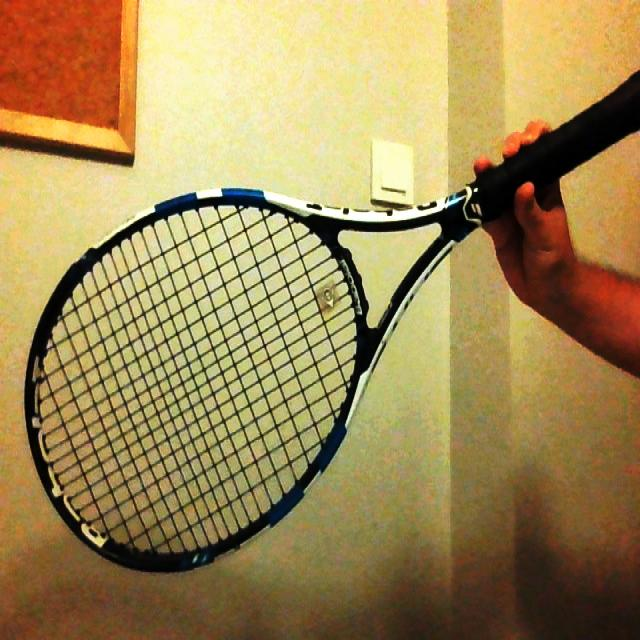TennisRacket: (24, 66, 640, 571)
